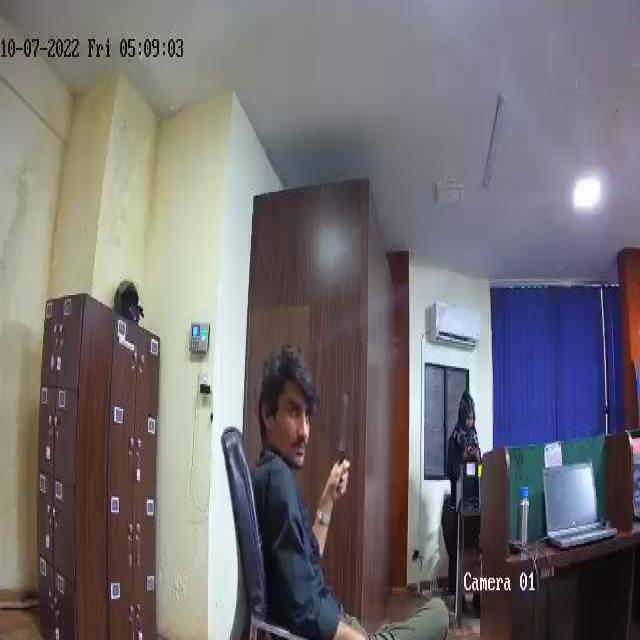weapon: (336, 388, 352, 498)
